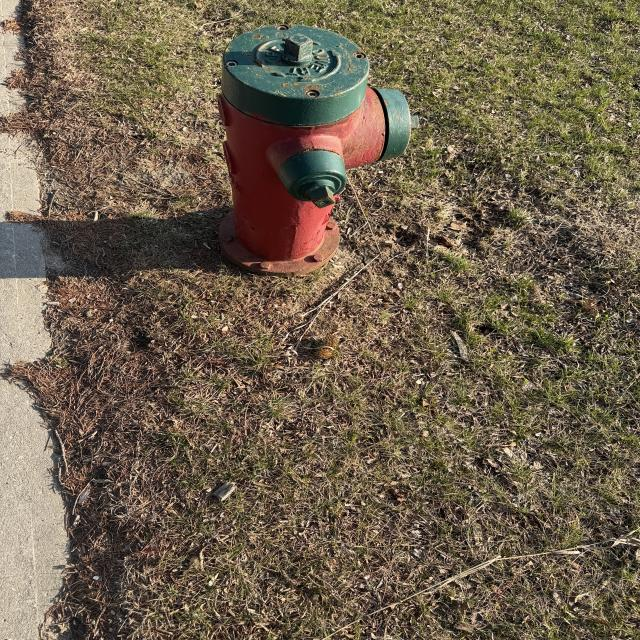Fire hydrant: (216, 24, 420, 277)
